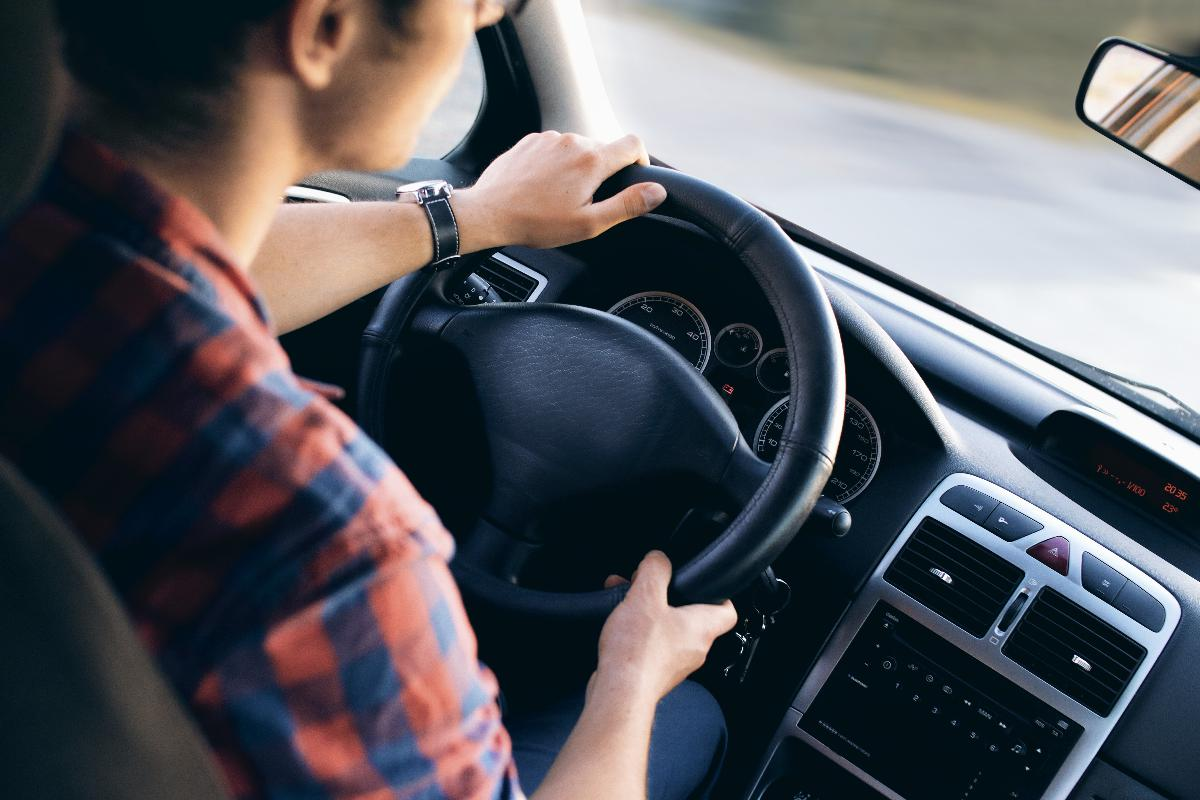Person: (1, 1, 760, 800)
